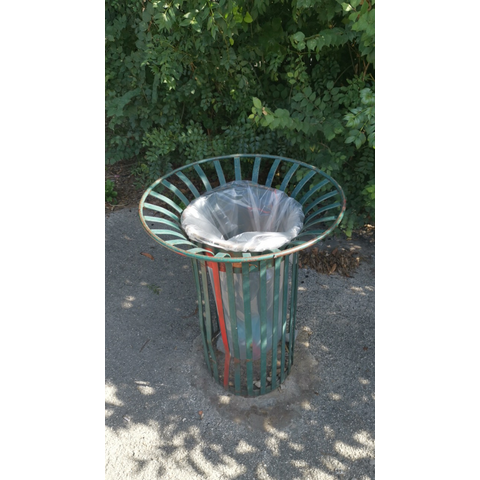poubelle: (138, 147, 349, 398)
